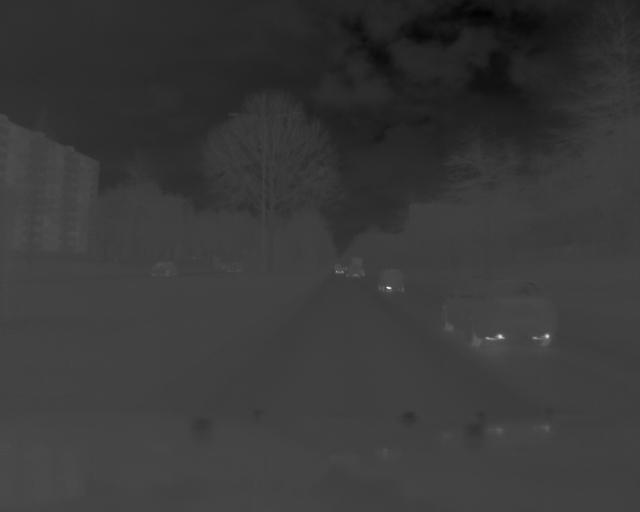car: (438, 273, 566, 350), (377, 267, 408, 295), (150, 260, 178, 278)
